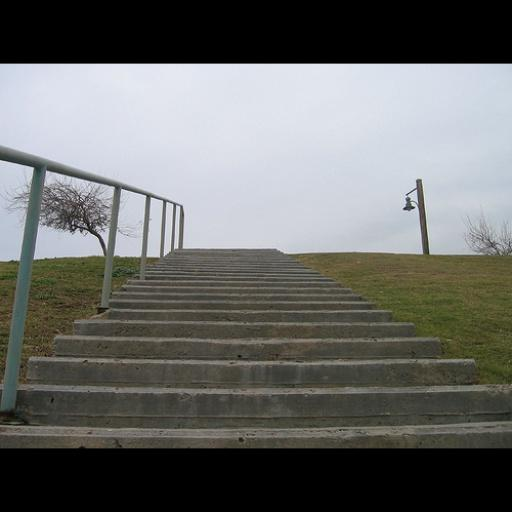stairs: (0, 249, 511, 447)
